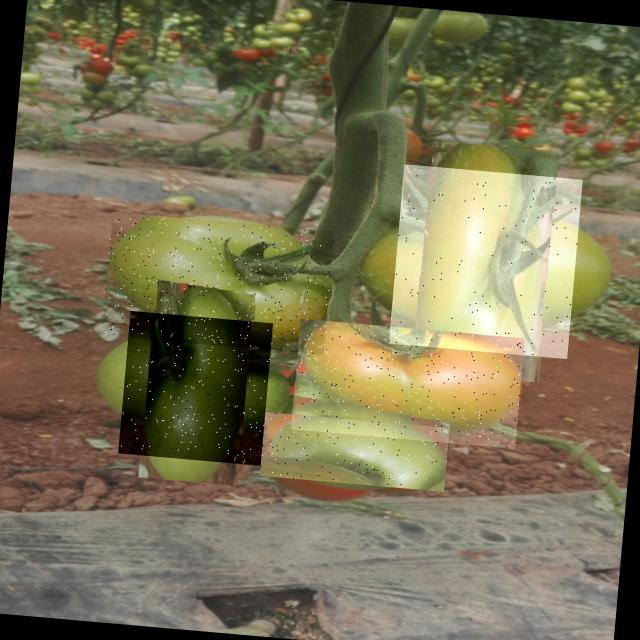Unripe Tomato: (388, 164, 582, 358), (101, 212, 334, 354), (290, 318, 524, 448), (118, 310, 272, 466), (259, 412, 449, 492)
